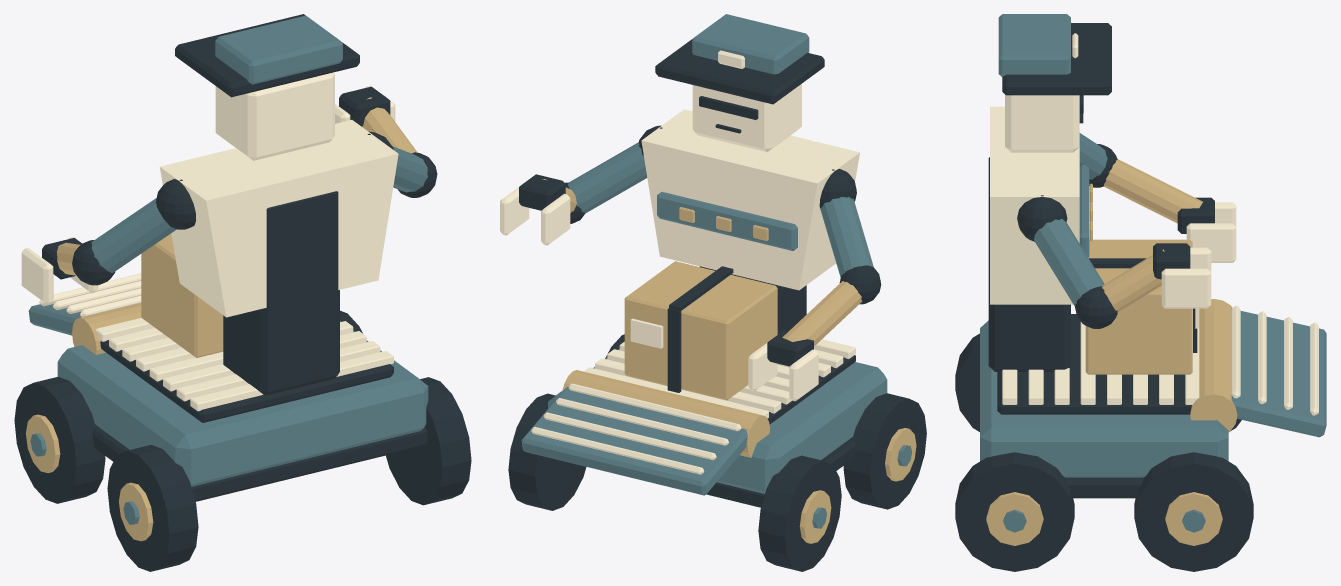
3 renders of one model, left to right at view 1: azimuth 30°, elevation 25°; view 2: azimuth 150°, elevation 25°; view 3: azimuth 270°, elevation 25°, orthographic. The views are drawn at different scales.
Visible parts, largest first — view 1: routing_torso, conveyor_chassis, routing_spine, router_face, left_back_wheel, left_front_wheel, right_back_wheel, courier_cap_crown, ready_parcel, chassis_lower_rail, belt_top, courier_cap_brim (+24 smaller); view 2: routing_torso, ready_parcel, ramp_deck, conveyor_chassis, left_front_wheel, left_back_wheel, courier_cap_brim, router_face, courier_cap_crown, right_front_wheel, belt_drive_roller, routing_chest_band (+27 smaller); view 3: conveyor_chassis, routing_torso, right_front_wheel, right_back_wheel, ready_parcel, ramp_deck, routing_spine, belt_top, courier_cap_crown, courier_cap_brim, router_face, belt_drive_roller (+27 smaller).
Part boxes in pixels (x1,y1,x2,y2): routing_torso: (160, 120, 398, 317); conveyor_chassis: (57, 321, 428, 486); routing_spine: (223, 191, 339, 395); router_face: (215, 72, 334, 160); left_back_wheel: (107, 445, 198, 571); left_front_wheel: (14, 376, 105, 503); right_back_wheel: (386, 377, 471, 505); courier_cap_crown: (215, 15, 342, 84); ready_parcel: (141, 233, 223, 357); chassis_lower_rail: (92, 426, 427, 501); belt_top: (100, 340, 393, 422); courier_cap_brim: (175, 14, 359, 97); routing_torso: (641, 109, 859, 290); ready_parcel: (624, 261, 777, 400); ramp_deck: (521, 386, 747, 495); conveyor_chassis: (548, 349, 887, 493); left_front_wheel: (758, 455, 841, 571); left_back_wheel: (843, 393, 926, 509); courier_cap_brim: (655, 39, 824, 104); router_face: (692, 84, 801, 152); courier_cap_crown: (692, 14, 809, 74); right_front_wheel: (508, 393, 586, 510); belt_drive_roller: (562, 370, 769, 457); routing_chest_band: (657, 192, 797, 250); conveyor_chassis: (980, 320, 1228, 477); routing_torso: (990, 106, 1079, 304); right_front_wheel: (1134, 452, 1253, 571); right_back_wheel: (955, 452, 1074, 571); ready_parcel: (1085, 239, 1192, 374); ramp_deck: (1231, 311, 1326, 437); routing_spine: (988, 157, 1070, 371); belt_top: (997, 314, 1191, 414); courier_cap_crown: (998, 14, 1070, 76); courier_cap_brim: (1002, 23, 1111, 95); router_face: (1005, 95, 1079, 152); belt_drive_roller: (1190, 299, 1237, 431).
Size of the model in its own units: 1.61 by 2.07 by 1.49.
